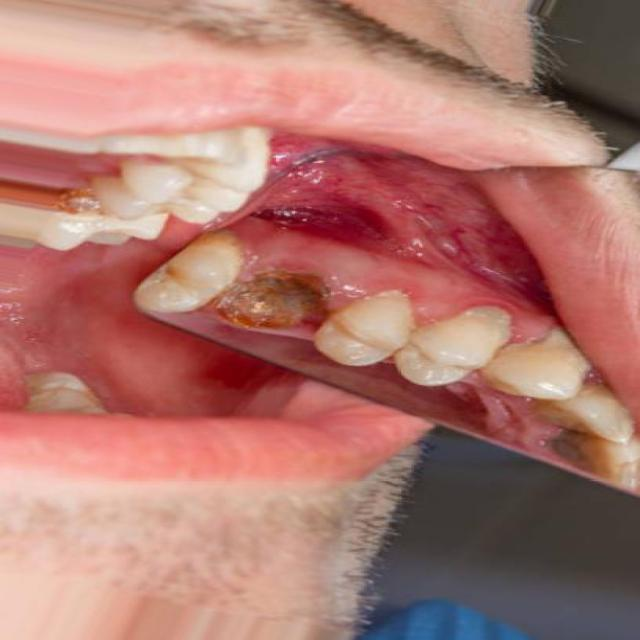caries: (207, 265, 343, 345), (45, 178, 122, 231)
